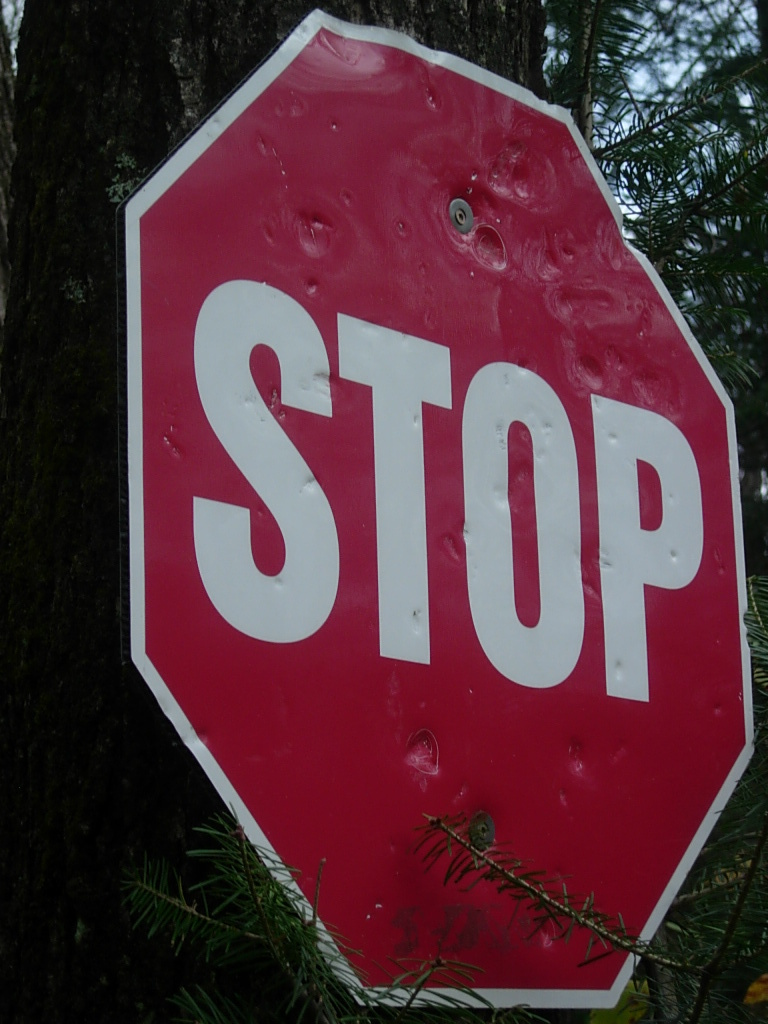stop_sign: (121, 10, 747, 1009)
